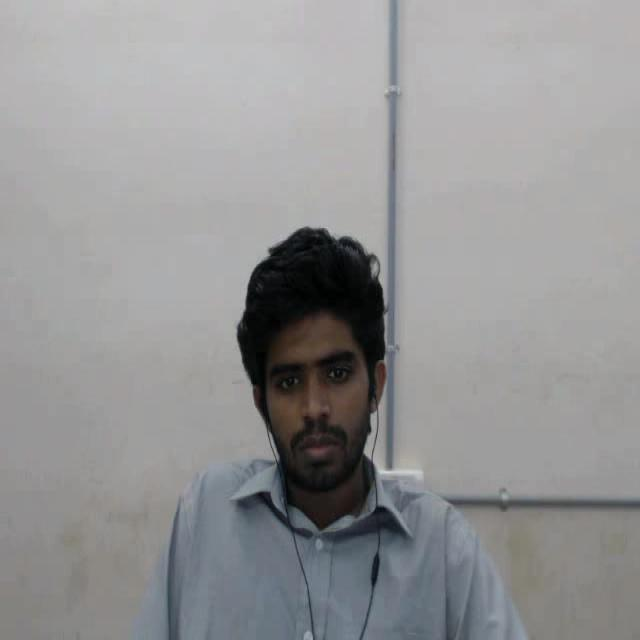Engaged: (210, 202, 420, 518)
